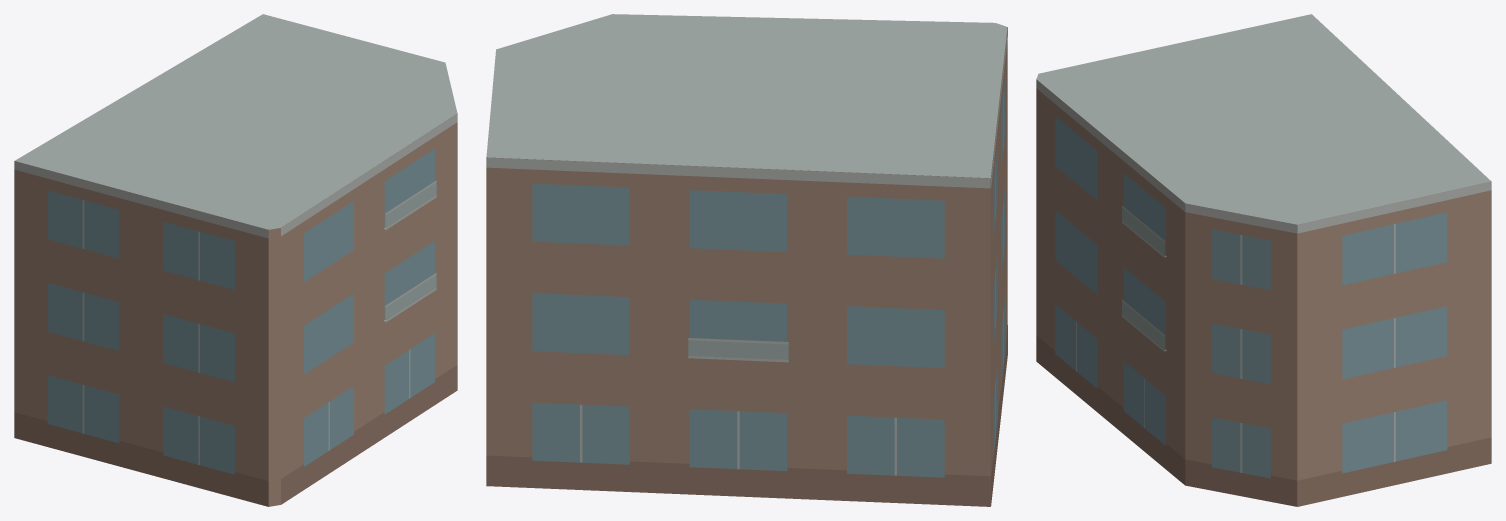
File: survey-upis-32829081.glb
3 views of the same model, side by side, from view 1: azimuth 30°, elevation 25°; view 2: azimuth 150°, elevation 25°; view 3: azimuth 270°, elevation 25° (orthographic). The views are drawn at different scales.
Parts seen in each view (by area): view 1: survey-upis-32829081.tmp; view 2: survey-upis-32829081.tmp; view 3: survey-upis-32829081.tmp.
Part boxes in pixels (bbox=[...]): survey-upis-32829081.tmp: bbox=[14, 14, 457, 506]; survey-upis-32829081.tmp: bbox=[486, 14, 1007, 506]; survey-upis-32829081.tmp: bbox=[1036, 14, 1491, 506].
Size of the model in its own units: 12.51 by 7.8 by 11.42.
